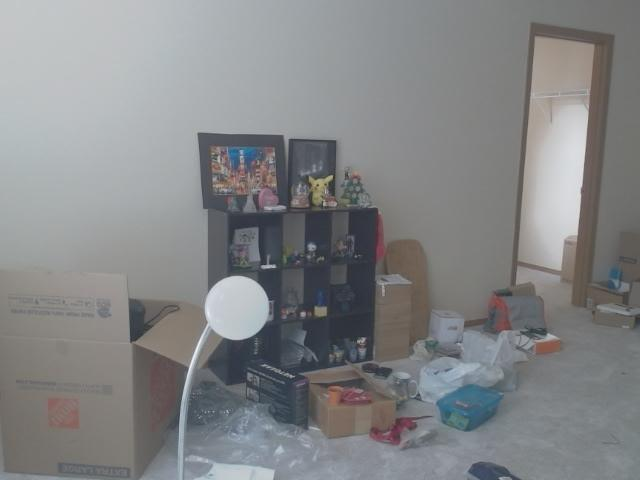Fan: (203, 273, 269, 340)
